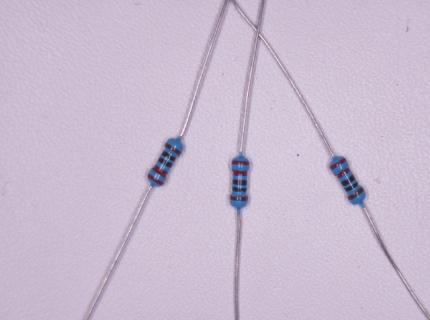Black band: (340, 174, 356, 187), (344, 181, 359, 192), (161, 151, 176, 162), (158, 157, 173, 168), (233, 178, 247, 185), (232, 187, 247, 193)
Brown band: (165, 142, 182, 156), (348, 187, 364, 200), (230, 195, 248, 201)
Red band: (151, 165, 168, 178), (147, 173, 164, 186), (330, 158, 347, 170), (335, 167, 350, 179), (231, 160, 250, 166), (233, 170, 248, 176)
